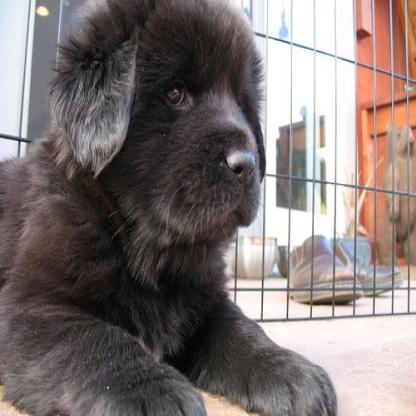Tibetan_mastiff: (0, 0, 336, 414)
